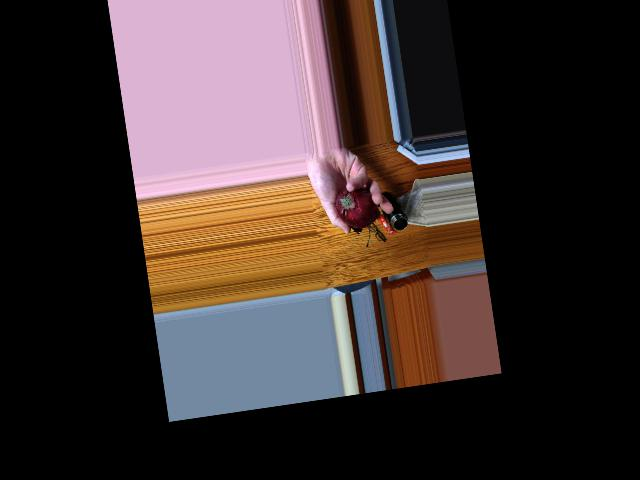onion: (332, 179, 380, 231)
